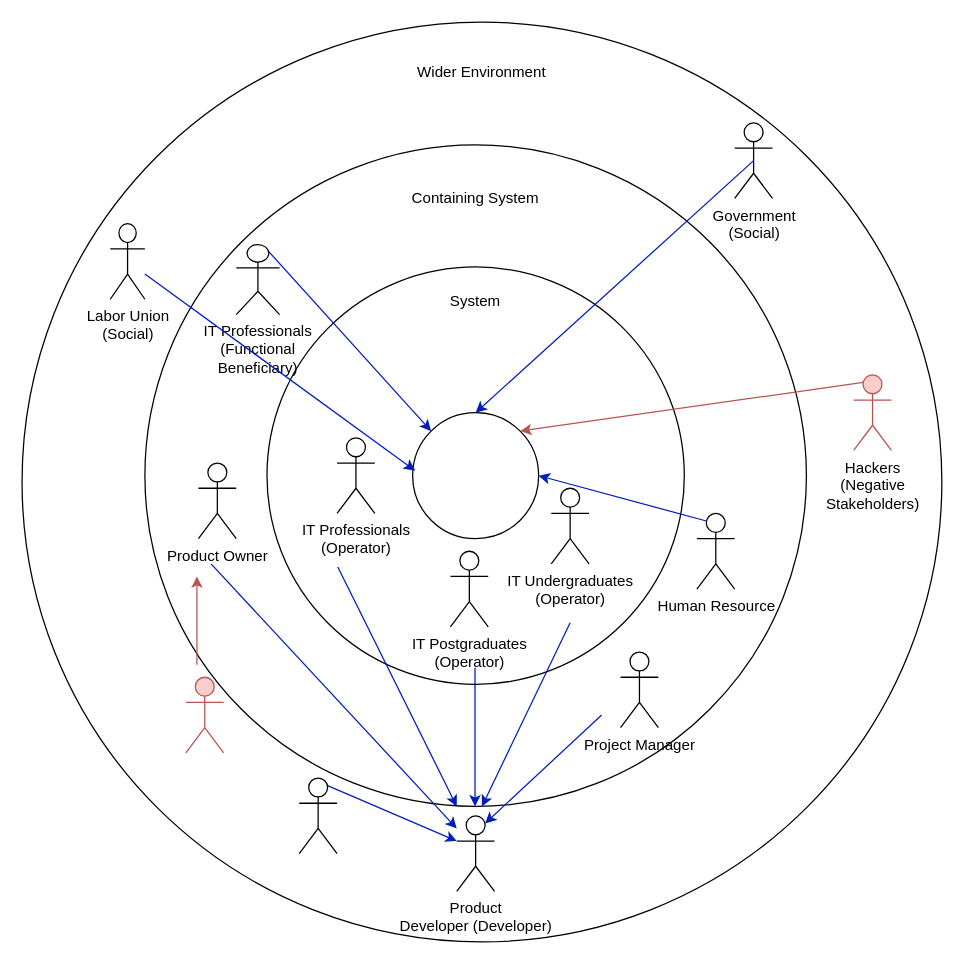
Image size: 964x964. Some labels were removed from this diagram. Here are the shapes that lost their labels. From the top down, the centre of each, then its label:
the point at 475,475: Platform
the point at 204,714: Competitors (Negative Stakeholders)
the point at 317,815: Supervisor (Advisory)
